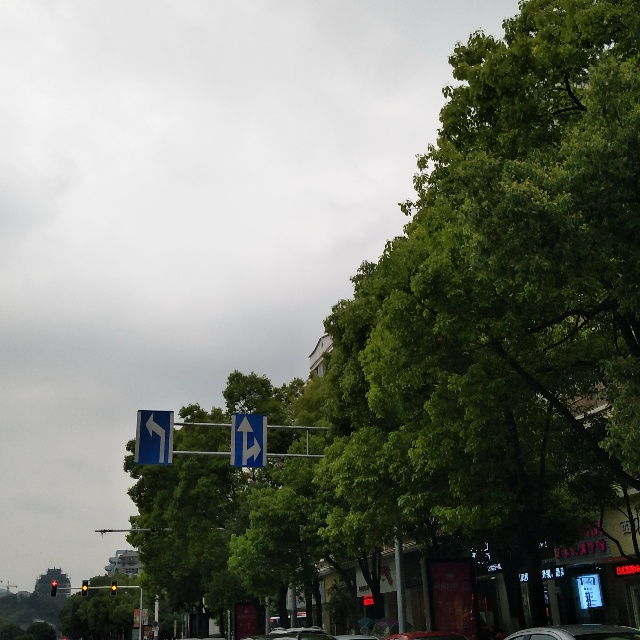left: (137, 409, 174, 466)
